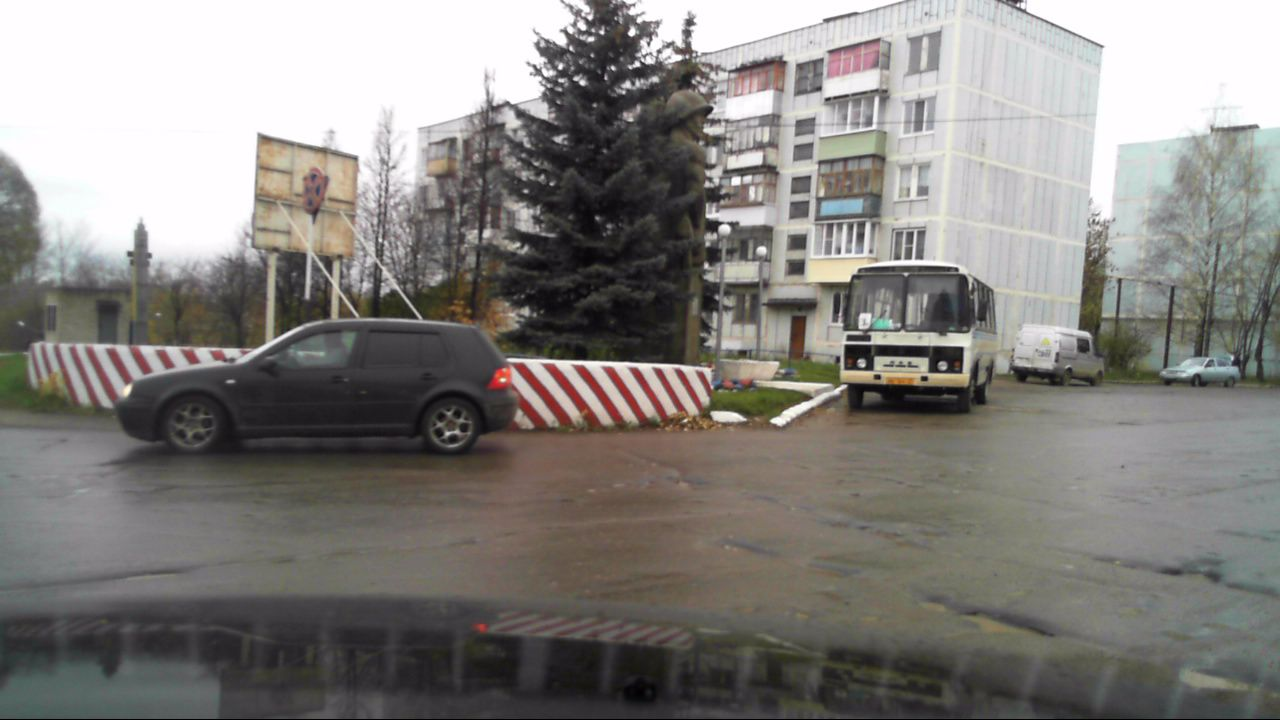No Parking: (302, 166, 325, 214)
